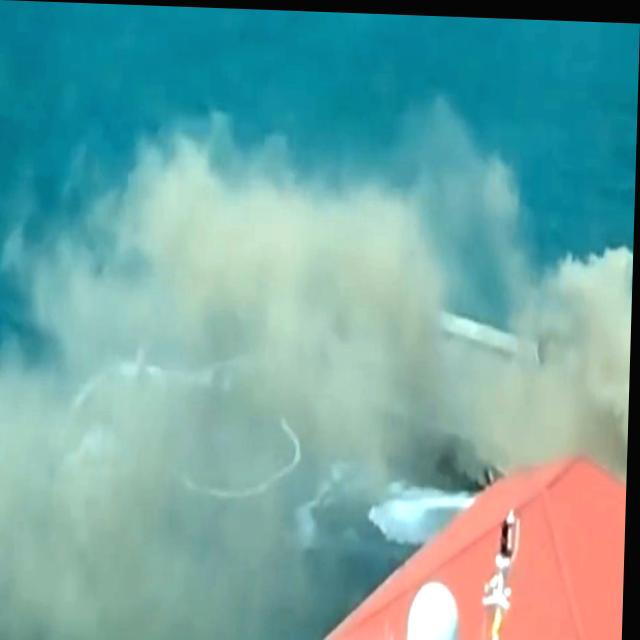smoke: (0, 100, 448, 529), (486, 232, 635, 451)
